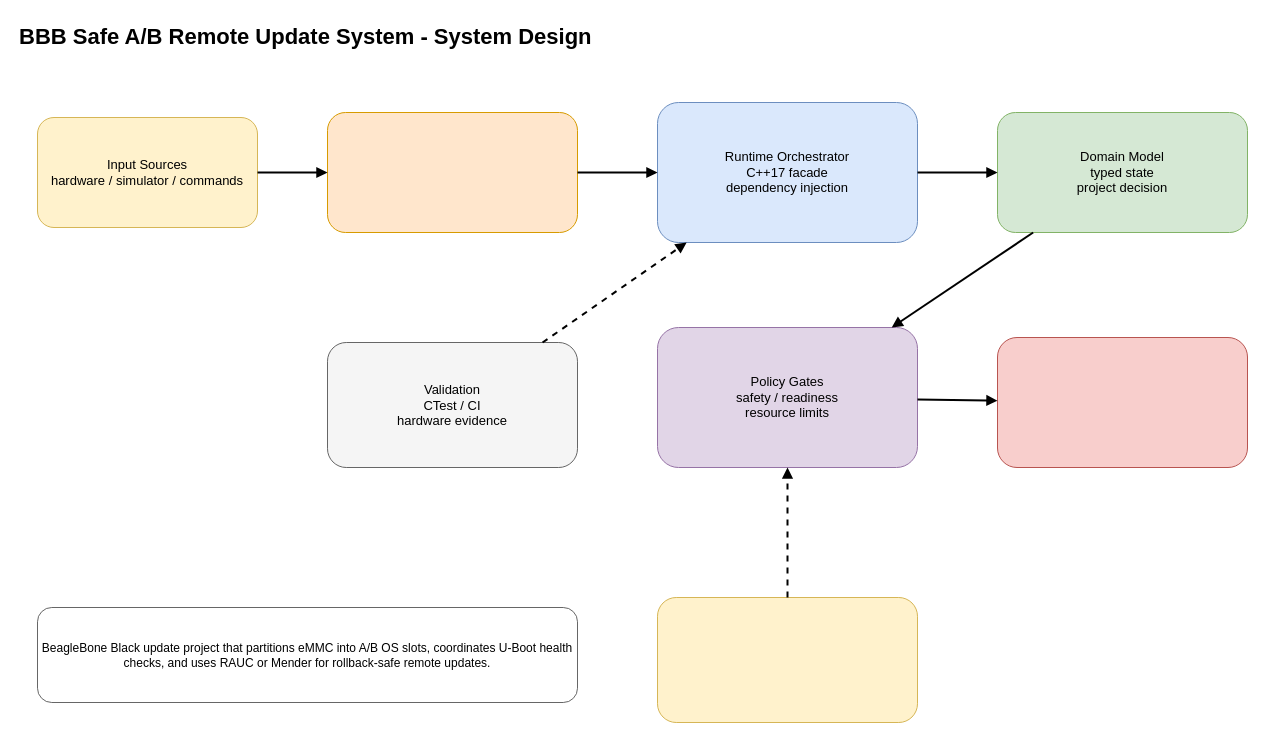
The diagram is 1265 pixels wide and 740 high, and some of its shapes have lost their labels. The centre of each missing label's shape, as x and y in pixels:
Adapter Layer bus / OS / driver / transport: the point at 452,172
Evidence Outputs telemetry / logs / reports: the point at 1122,402
Roadmap design / host runtime target adapters / evidence: the point at 787,659
